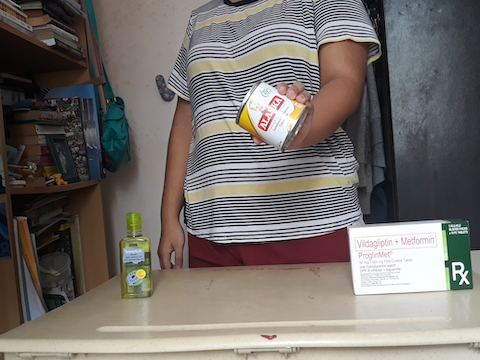bottle: (117, 211, 157, 302)
box: (341, 214, 473, 299)
can: (230, 75, 315, 155)
grab: (273, 79, 317, 109)
